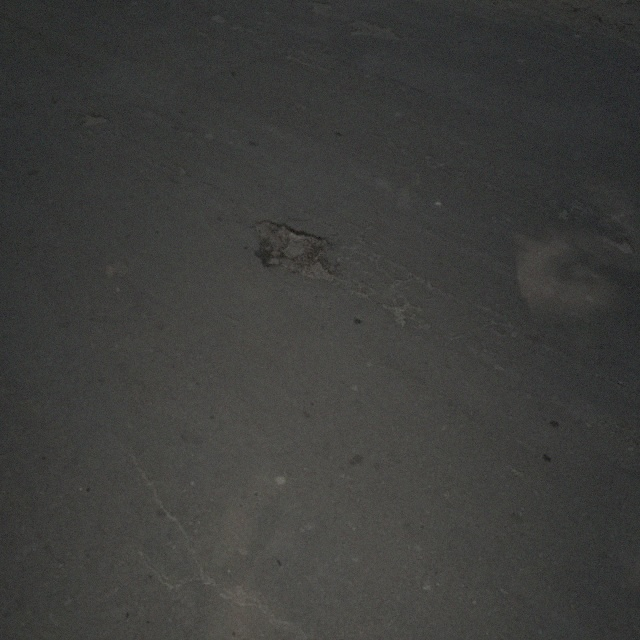pothole: (246, 218, 337, 285), (346, 15, 402, 42), (76, 110, 110, 128), (308, 0, 334, 16)
